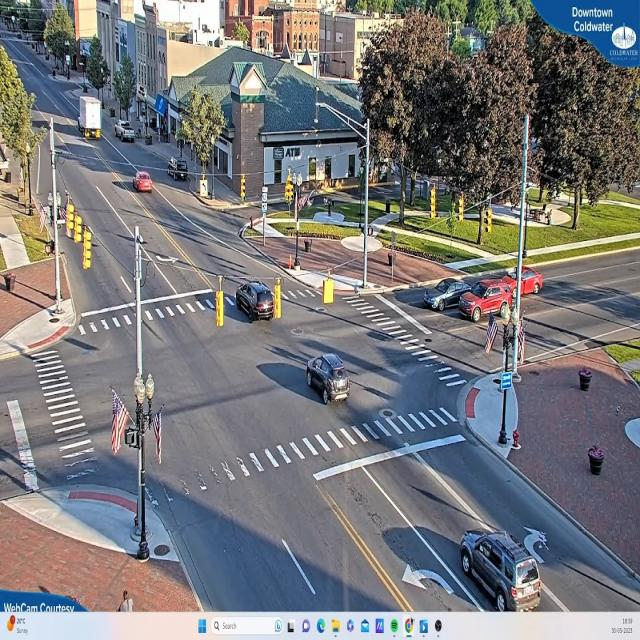car: (461, 531, 548, 612), (304, 354, 350, 406), (233, 283, 276, 319), (165, 158, 189, 180), (132, 172, 154, 194)
